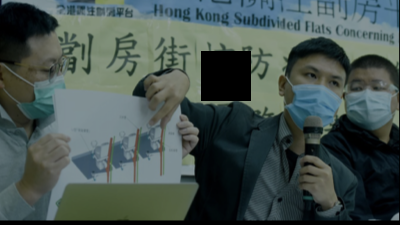with_mask: (5, 51, 69, 122), (285, 63, 347, 134), (343, 74, 399, 132)
